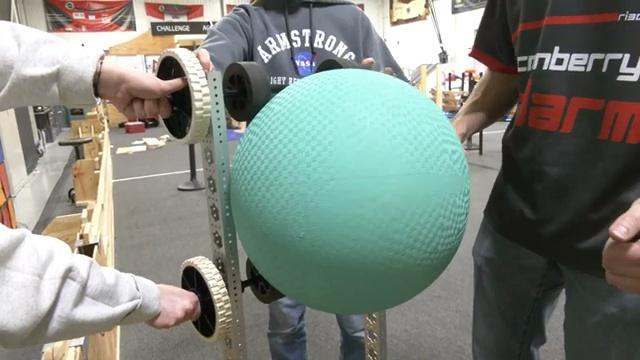ALGAE: (228, 66, 471, 315)
